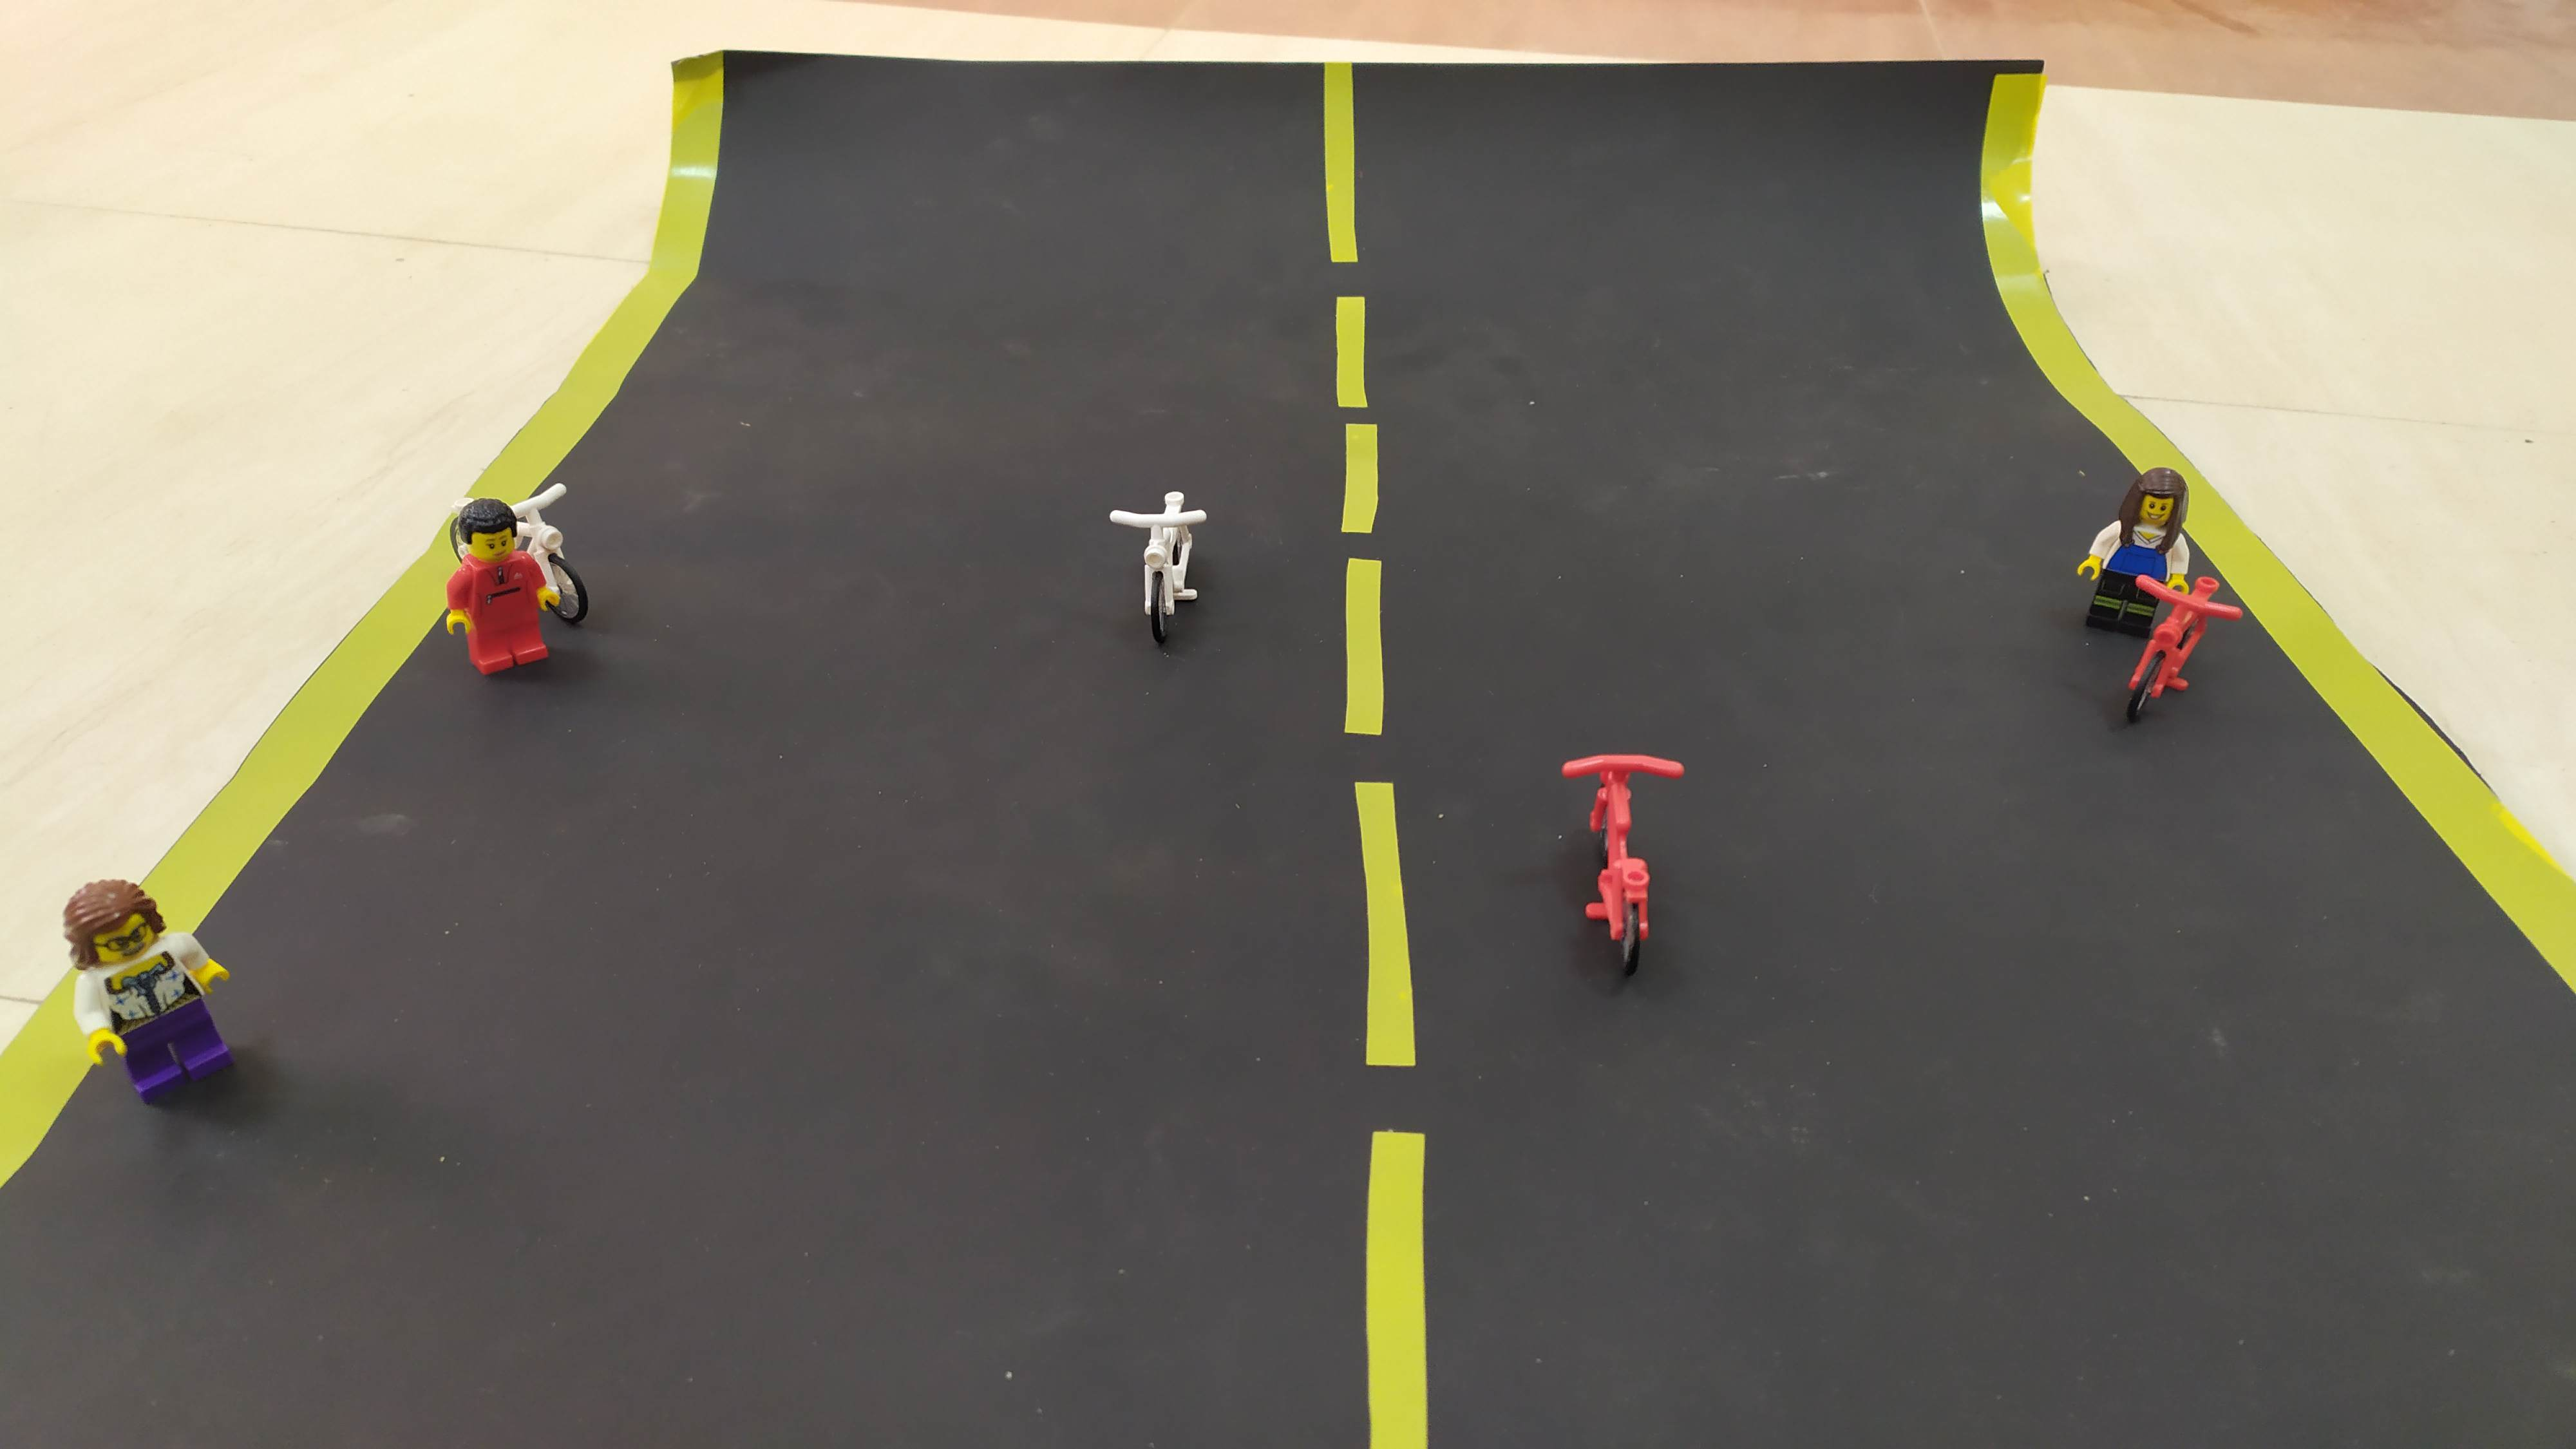Person: (61, 853, 241, 1124), (448, 486, 570, 686)
